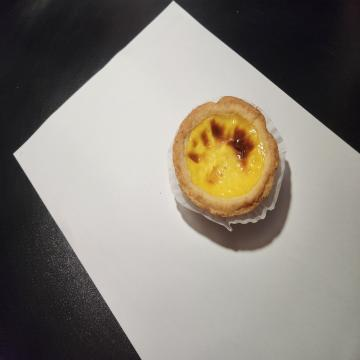EggTart: (172, 95, 280, 218)
